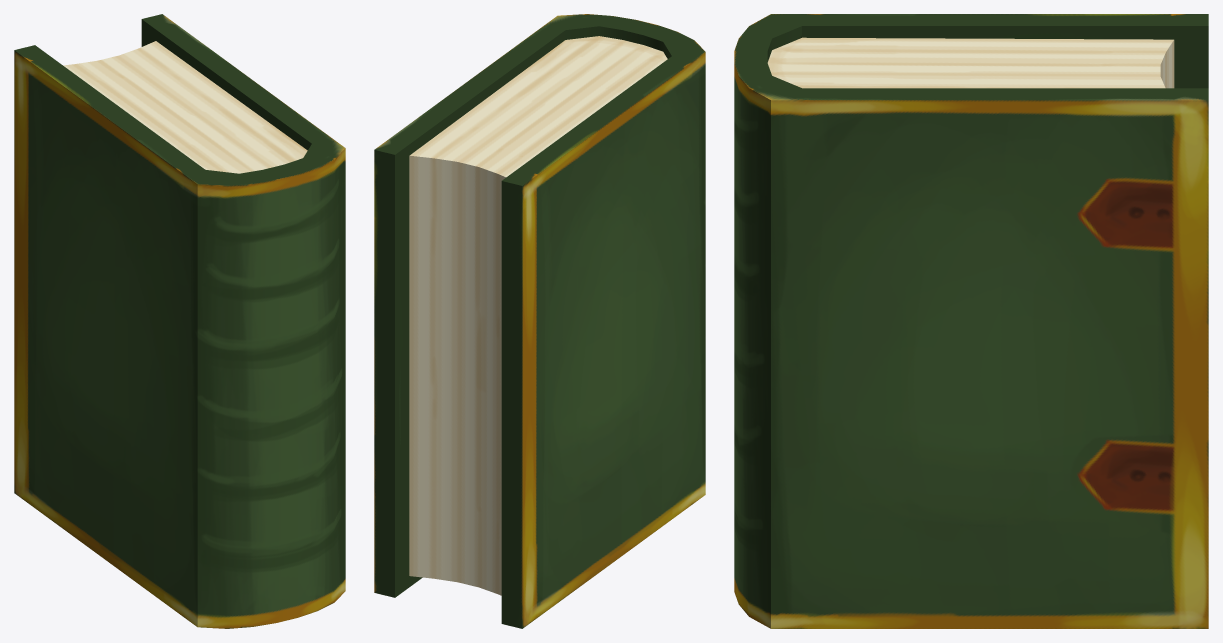
Rendered from Book.fbx.
The picture shows the model from 3 angles, left to right: view 1: azimuth 30°, elevation 25°; view 2: azimuth 150°, elevation 25°; view 3: azimuth 270°, elevation 25°; orthographic projection. The views are drawn at different scales.
Parts seen in each view (by area): view 1: pCube3; view 2: pCube3; view 3: pCube3.
Boxes of the visible parts, x1,y1,x2,y2 form: pCube3: (14,14,345,628); pCube3: (374,14,705,628); pCube3: (734,14,1208,628).
Size of the model in its own units: 7 by 20 by 16.26.
Materials: 1 (1 with a texture image).
